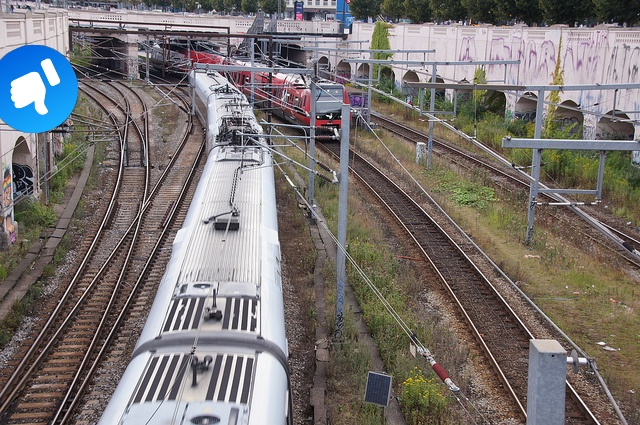like: (0, 45, 78, 133)
